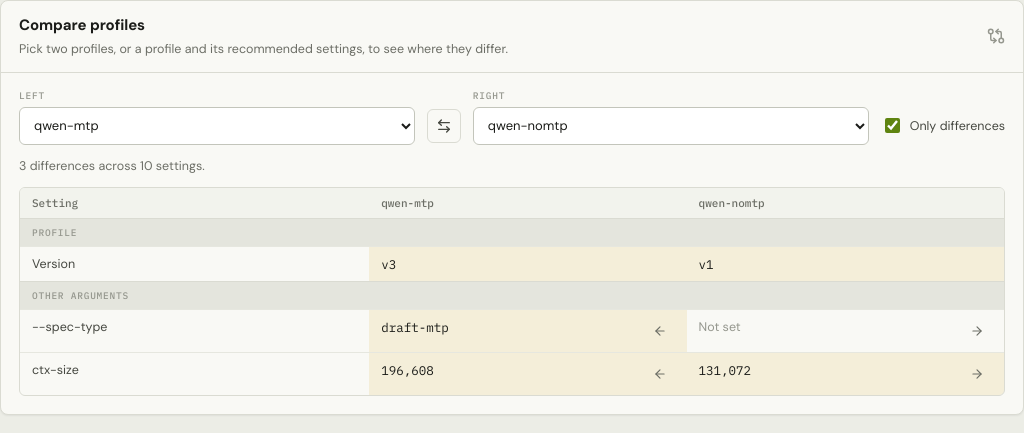
Test: ProfileCompare › reports identical profiles and the same profile on both sides
The width and height of the screenshot is (1024, 433).
Select "qwen-copy" in the dropdown named "Right profile" at (671, 126), box [473,107,869,145]
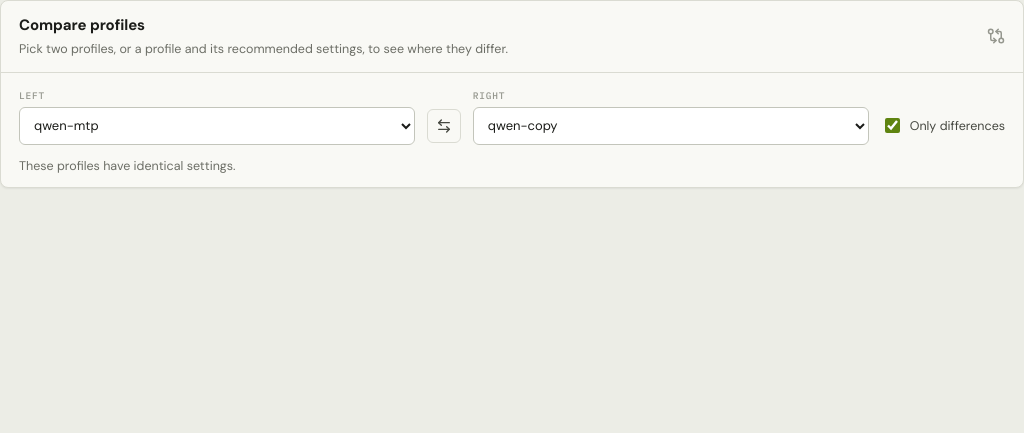
Expected: the message reads "These profiles have identical settings.", [19,158,236,174]
Expected: the table is gone
Select "qwen-mtp" in the dropdown named "Right profile" at (671, 126), box [473,107,869,145]
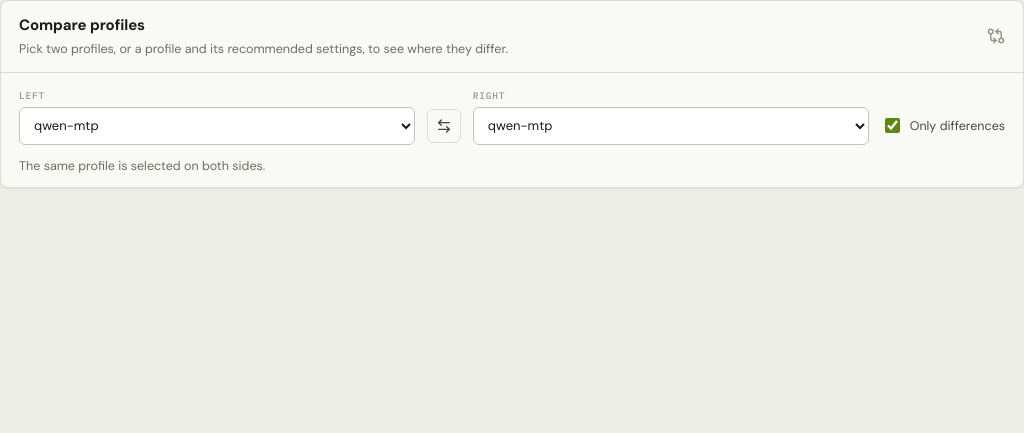
Expected: the message reads "The same profile is selected on both sides.", [19,158,265,174]
